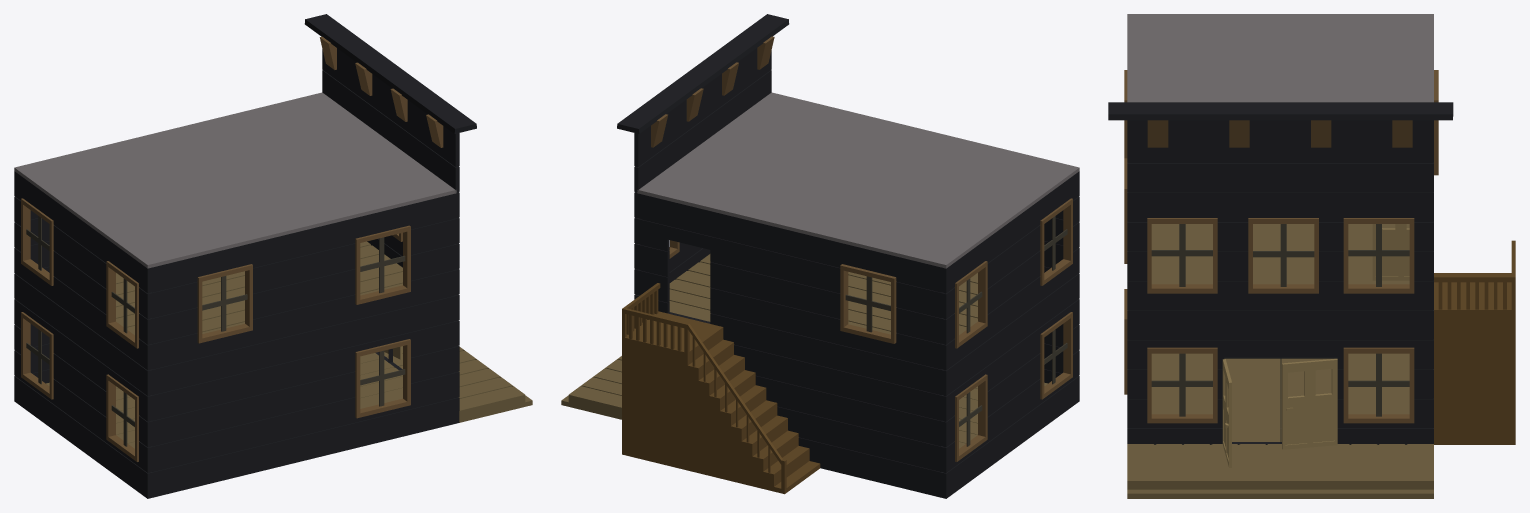
File: House_02.fbx
The picture shows the model from 3 angles, left to right: view 1: azimuth 30°, elevation 25°; view 2: azimuth 150°, elevation 25°; view 3: azimuth 270°, elevation 25°; orthographic projection. The views are drawn at different scales.
Visible parts, largest first — view 1: House_02_Merged; view 2: House_02_Merged; view 3: House_02_Merged.
Boxes of the visible parts, <box> form: House_02_Merged: <box>14,14,532,498</box>; House_02_Merged: <box>561,14,1079,498</box>; House_02_Merged: <box>1108,14,1515,498</box>.
Bounding box in the file's own units: 1005 × 752 × 797.
